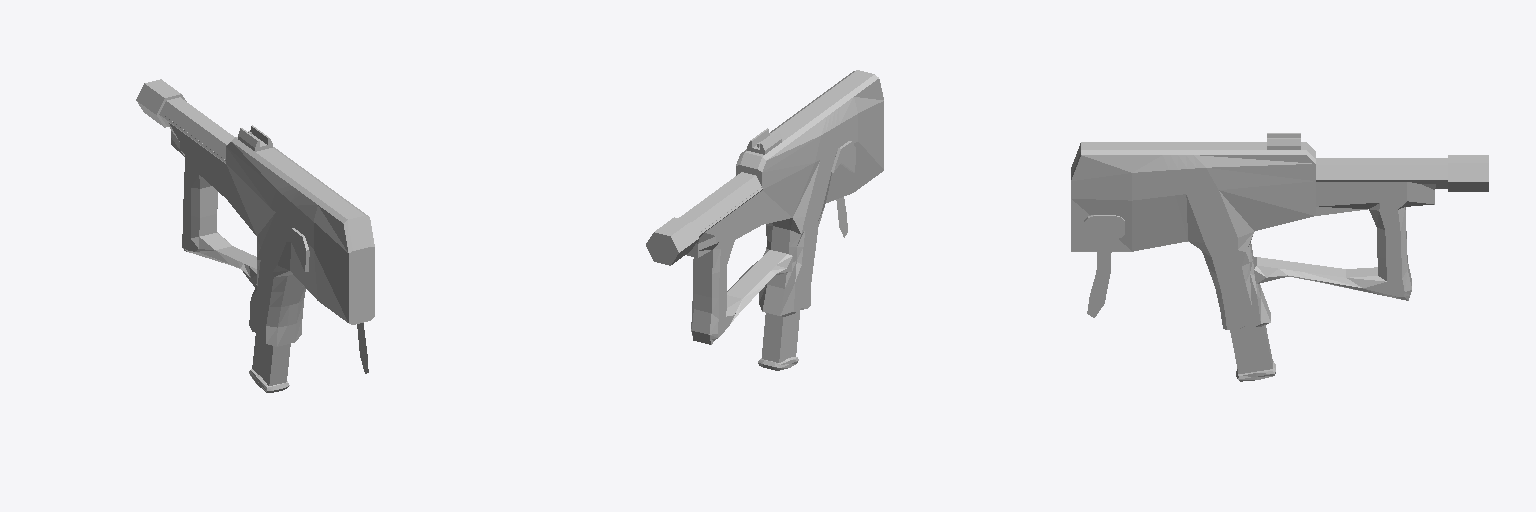
Rendered from agent_of_wood.obj.
3 renders of one model, left to right at view 1: azimuth 30°, elevation 25°; view 2: azimuth 150°, elevation 25°; view 3: azimuth 270°, elevation 25°, orthographic.
Parts seen in each view (by area): view 1: agent_of_wood; view 2: agent_of_wood; view 3: agent_of_wood.
Boxes of the visible parts, box(x1,y1,x2,y2) form: agent_of_wood: box(136, 79, 374, 392); agent_of_wood: box(646, 70, 883, 370); agent_of_wood: box(1071, 133, 1488, 381).
Size of the model in its own units: 0.0662 by 0.4035 by 0.6316.